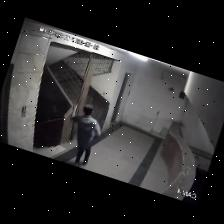person: (71, 104, 99, 165)
